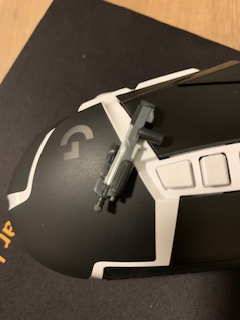rifle: (87, 97, 164, 215)
